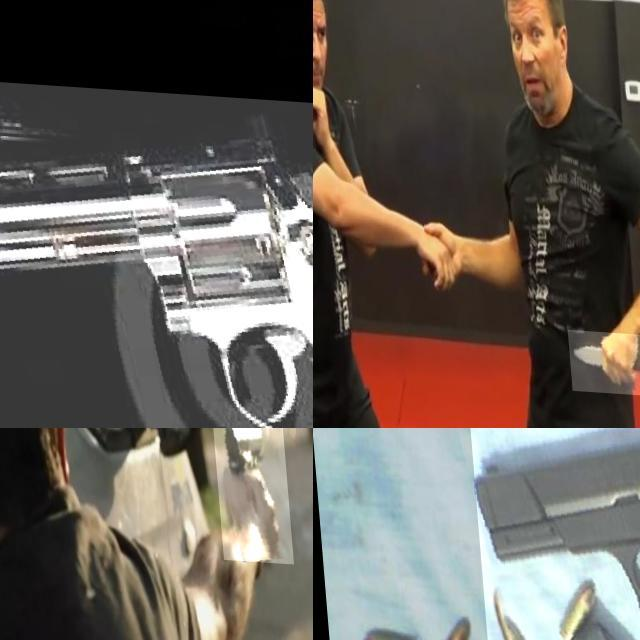-: (561, 323, 640, 389)
gun-knife-thesis - v11 Yolov5 augmented: (0, 77, 313, 428), (465, 428, 640, 640), (207, 428, 288, 558)
